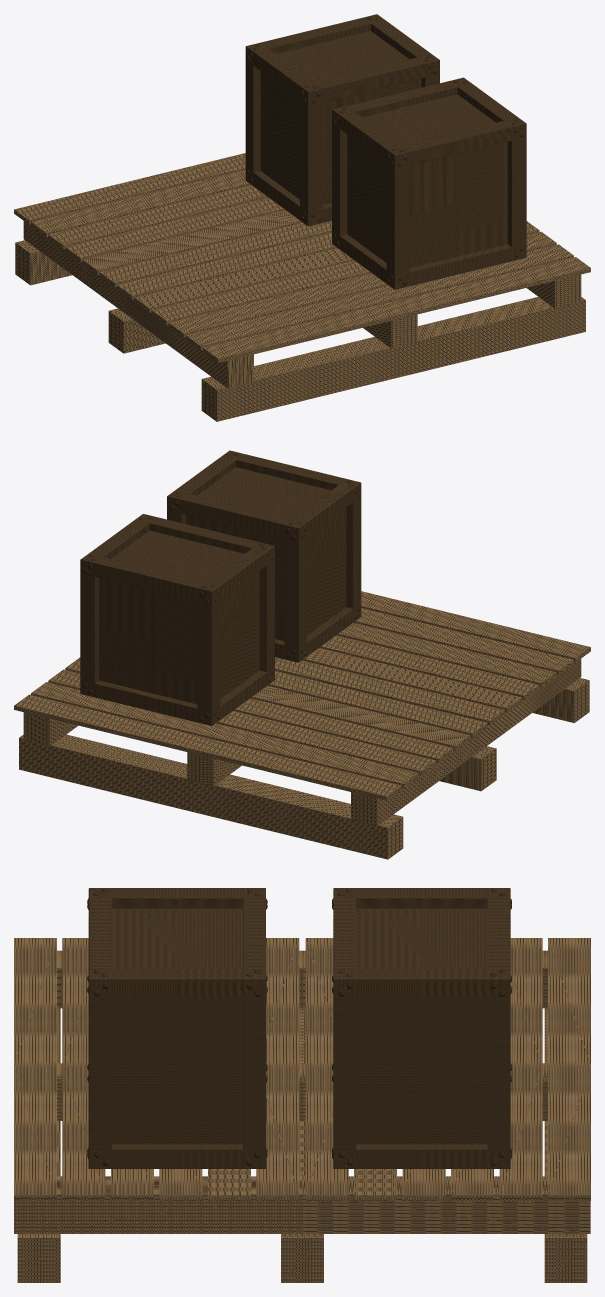
File: Neoflycargo_fragile_l_1.gltf
The picture shows the model from 3 angles, top to bottom: view 1: azimuth 30°, elevation 25°; view 2: azimuth 150°, elevation 25°; view 3: azimuth 270°, elevation 25°; orthographic projection. The views are drawn at different scales.
Visible parts, largest first — view 1: Neoflycargo00, Neoflycargo-fragile.002; view 2: Neoflycargo00, Neoflycargo-fragile.002; view 3: Neoflycargo-fragile.002, Neoflycargo00.
Boxes of the visible parts, x1,y1,x2,y2 form: Neoflycargo00: (14,153,590,421); Neoflycargo-fragile.002: (245,14,526,289); Neoflycargo00: (14,591,590,859); Neoflycargo-fragile.002: (80,450,361,725); Neoflycargo-fragile.002: (87,888,511,1168); Neoflycargo00: (14,938,590,1282).
Size of the model in its own units: 1.28 by 0.658 by 1.22.
